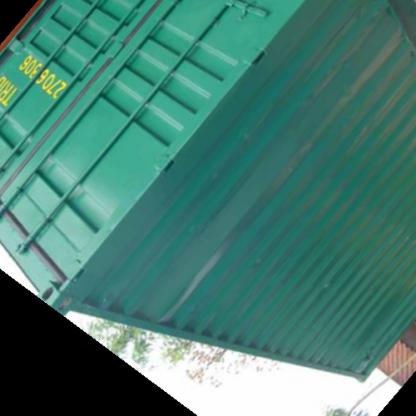Damage: (277, 1, 412, 190), (154, 232, 232, 326), (247, 251, 268, 275), (320, 274, 338, 302)
